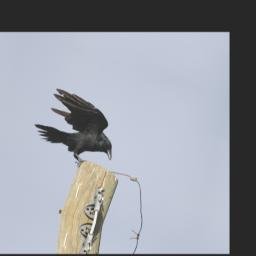Crow: (26, 82, 125, 176)
